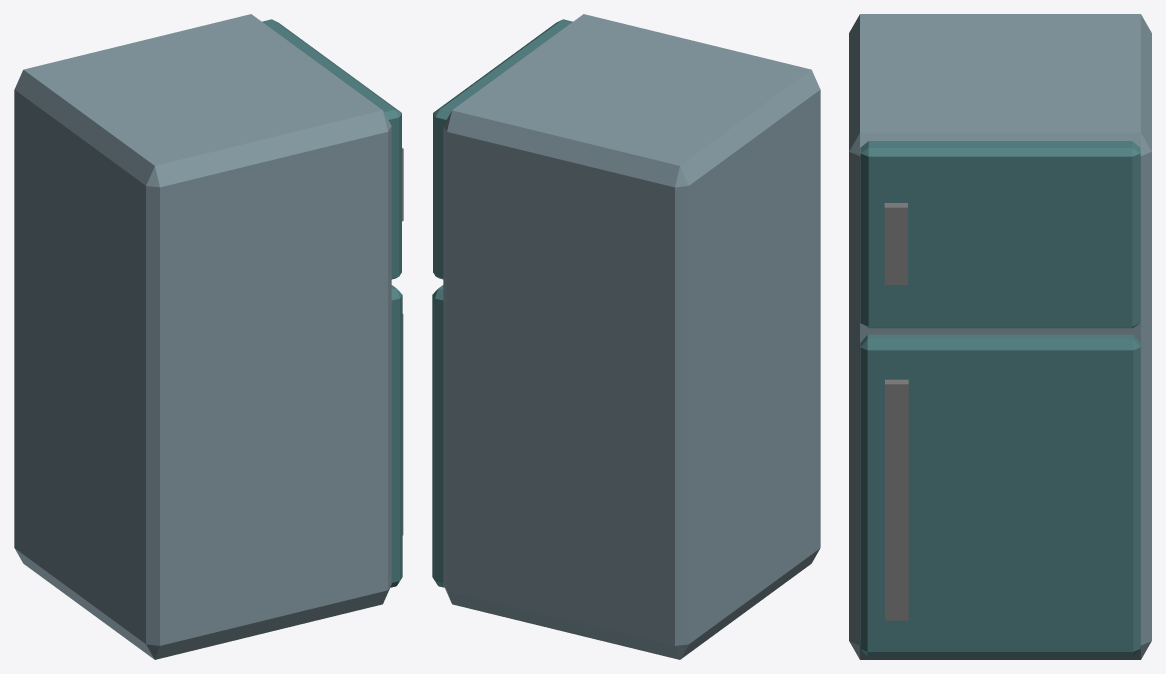
The model's file is icebox.fbx.
3 views of the same model, side by side, from view 1: azimuth 30°, elevation 25°; view 2: azimuth 150°, elevation 25°; view 3: azimuth 270°, elevation 25° (orthographic). The views are drawn at different scales.
Visible parts, largest first — view 1: Cube, Cube.001, Cube.002; view 2: Cube, Cube.001, Cube.002; view 3: Cube.001, Cube, Cube.002, Cube.004, Cube.003.
Part boxes in pixels (x1,y1,x2,y2): Cube: [14, 14, 391, 659]; Cube.001: [390, 285, 402, 587]; Cube.002: [262, 19, 401, 279]; Cube: [443, 14, 820, 659]; Cube.001: [432, 285, 444, 587]; Cube.002: [433, 19, 572, 279]; Cube.001: [860, 334, 1140, 656]; Cube: [849, 14, 1151, 659]; Cube.002: [860, 141, 1140, 328]; Cube.004: [885, 379, 908, 620]; Cube.003: [884, 203, 907, 284].
Size of the model in its own units: 563 by 988 by 514.
